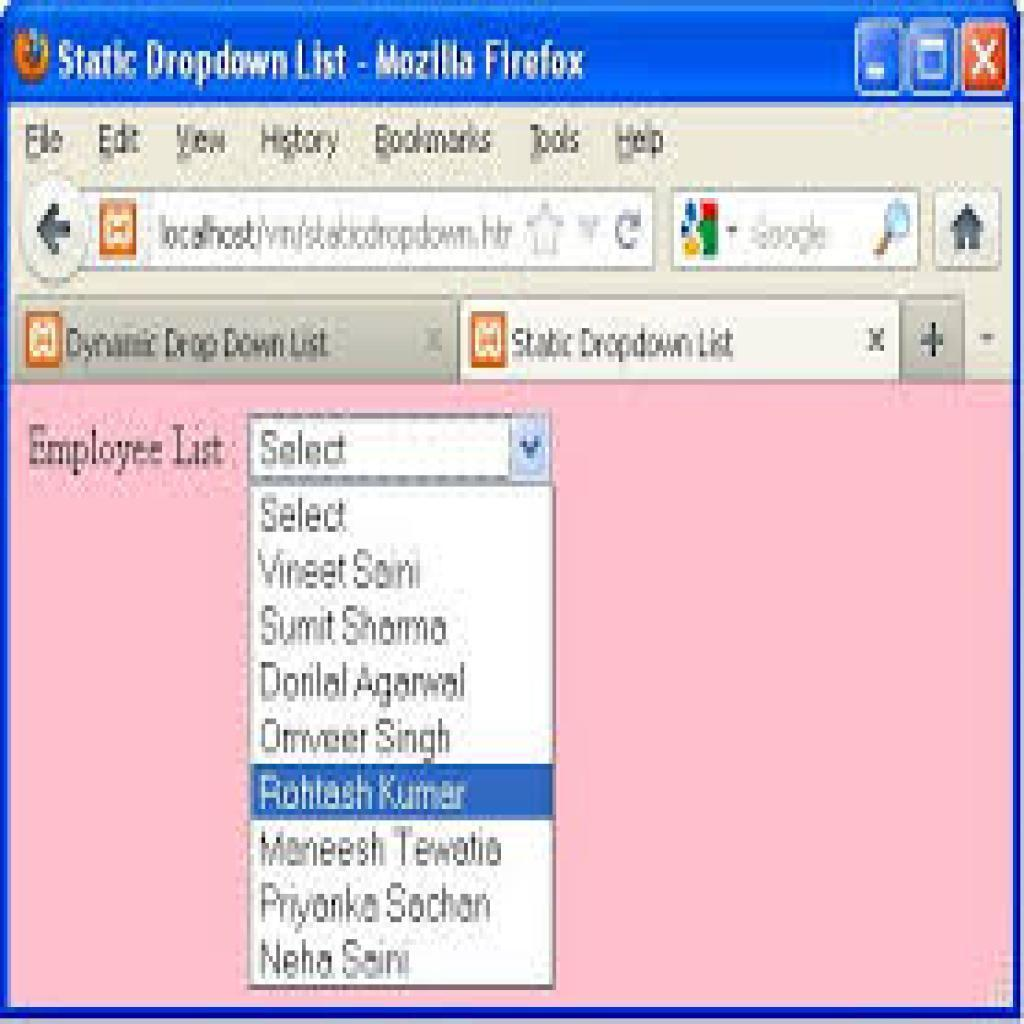button: (17, 295, 462, 384), (461, 297, 898, 382), (250, 764, 554, 822)
dropdown: (250, 413, 554, 486)
icon: (944, 200, 990, 267), (30, 202, 80, 261), (868, 202, 914, 259), (968, 34, 1005, 85), (915, 317, 952, 365), (612, 208, 646, 257)
